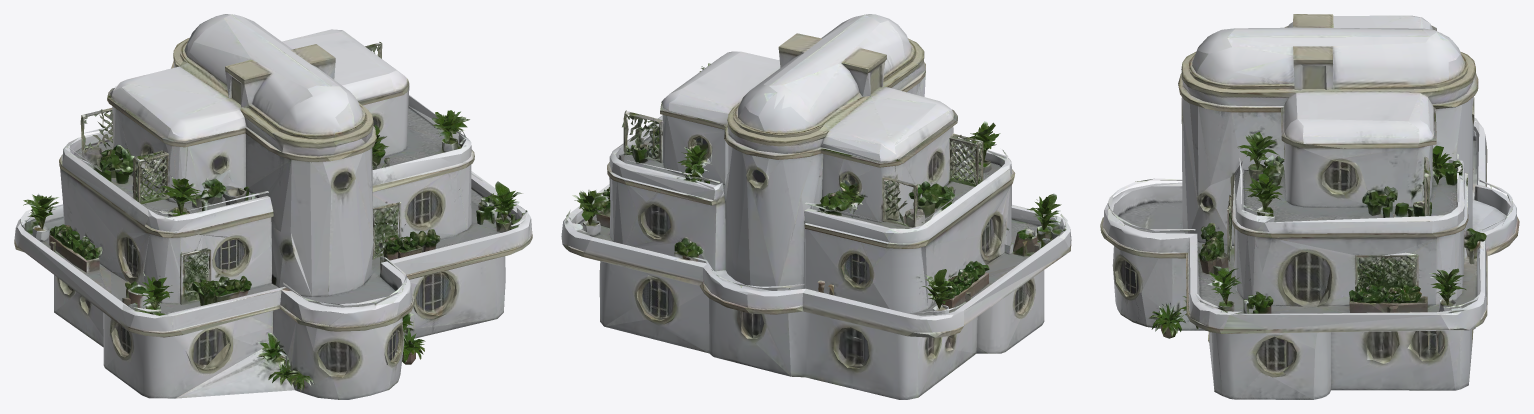
File: plazirvilla.glb
3 renders of one model, left to right at view 1: azimuth 30°, elevation 25°; view 2: azimuth 150°, elevation 25°; view 3: azimuth 270°, elevation 25°, orthographic. The views are drawn at different scales.
Visible parts, largest first — view 1: plazirvilla-centred; view 2: plazirvilla-centred; view 3: plazirvilla-centred.
Part boxes in pixels (x1,y1,x2,y2): plazirvilla-centred: [14, 14, 532, 399]; plazirvilla-centred: [561, 14, 1071, 399]; plazirvilla-centred: [1100, 14, 1519, 399].
Size of the model in its own units: 18.93 by 12 by 16.53.
Materials: 1 (1 with a texture image).
